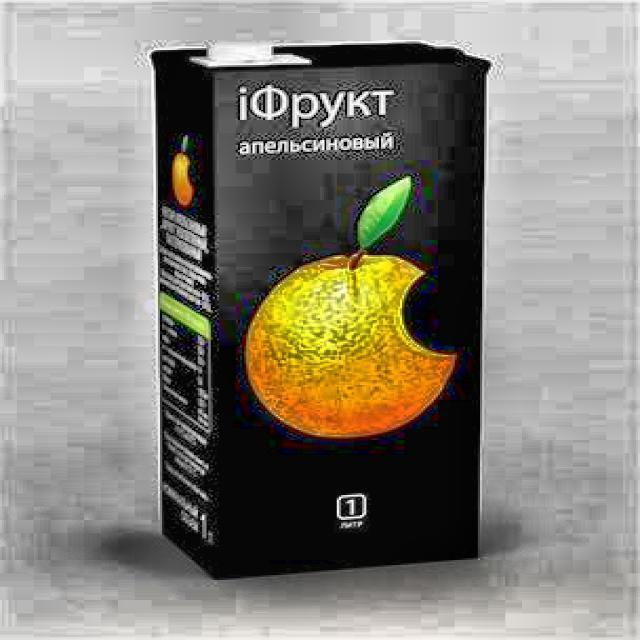cardboard: (150, 42, 490, 580)
